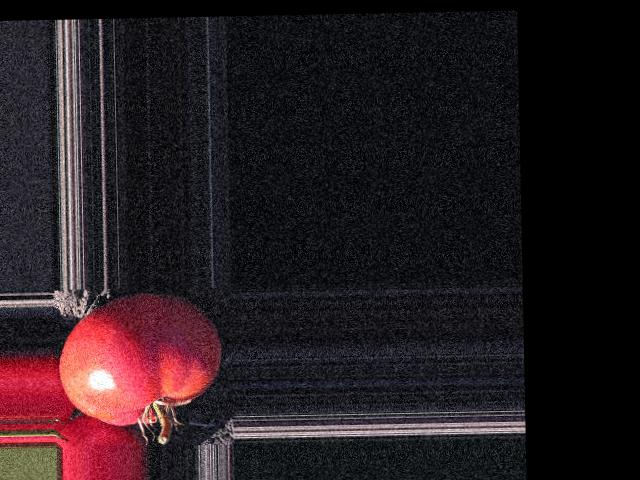tomato: (58, 291, 223, 425)
